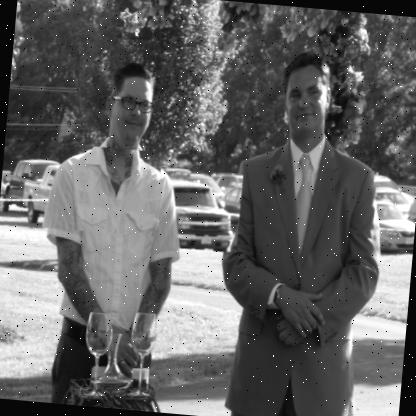Car: (0, 138, 415, 261), (154, 166, 244, 254), (366, 172, 415, 230), (369, 196, 415, 254), (1, 170, 11, 196)
